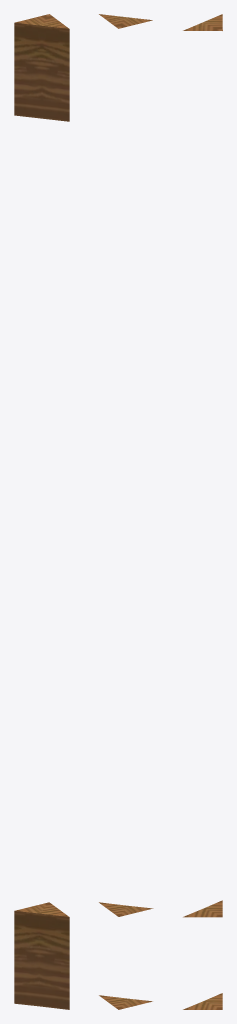
The model's file is corner-exterior-topdown.glb.
3 renders of one model, left to right at view 1: azimuth 30°, elevation 25°; view 2: azimuth 210°, elevation 25°; view 3: azimuth 270°, elevation 25°, orthographic.
Visible parts, largest first — view 1: Corner_Exterior_TopDown; view 2: Corner_Exterior_TopDown; view 3: Corner_Exterior_TopDown.
Part boxes in pixels (x1,y1,x2,y2): Corner_Exterior_TopDown: [14, 14, 69, 1009]; Corner_Exterior_TopDown: [99, 14, 153, 1009]; Corner_Exterior_TopDown: [183, 14, 222, 1009].
Bounding box in the file's own units: 0.093 × 2.47 × 0.093.
1 material, 1 textured.
